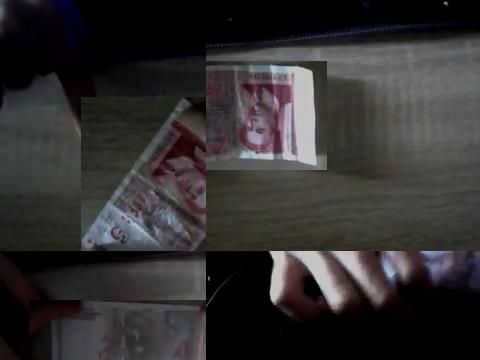5leva: (81, 97, 206, 251), (206, 61, 327, 167), (29, 300, 206, 360)
